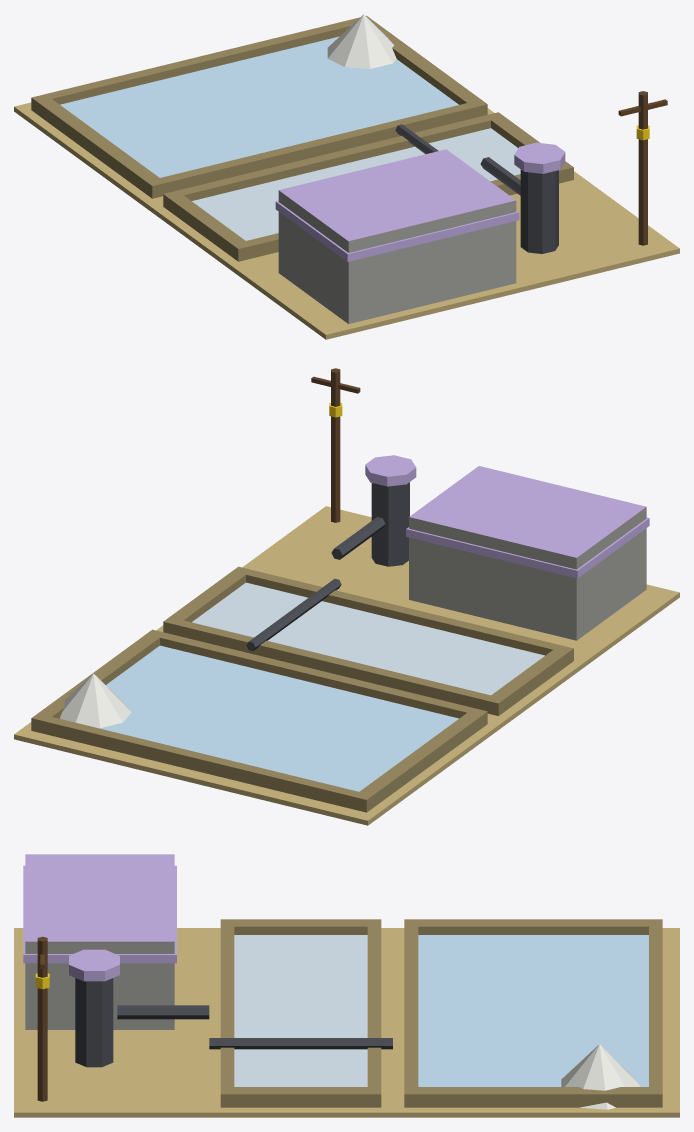
The model's file is brine_well.glb.
The picture shows the model from 3 angles, top to bottom: view 1: azimuth 30°, elevation 25°; view 2: azimuth 150°, elevation 25°; view 3: azimuth 270°, elevation 25°; orthographic projection. The views are drawn at different scales.
Visible parts, largest first — view 1: brine_well; view 2: brine_well; view 3: brine_well.
Part boxes in pixels (box(x1,y1,x2,y2)): brine_well: box(14, 14, 679, 339); brine_well: box(14, 368, 679, 825); brine_well: box(14, 854, 679, 1117).
Bounding box in the file's own units: 3.8 × 1.6 × 5.8.
